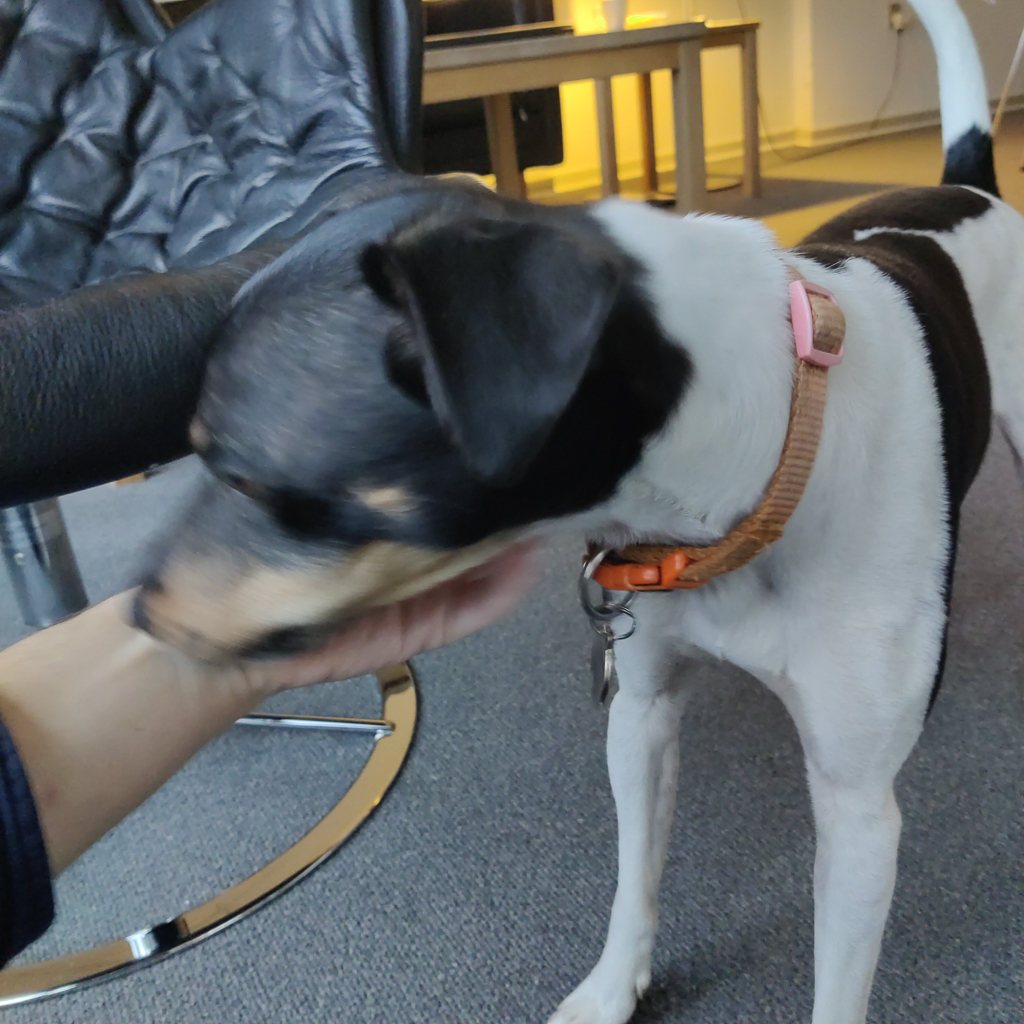Dog: (102, 0, 1024, 1024)
Humanoid: (0, 395, 545, 1024)
